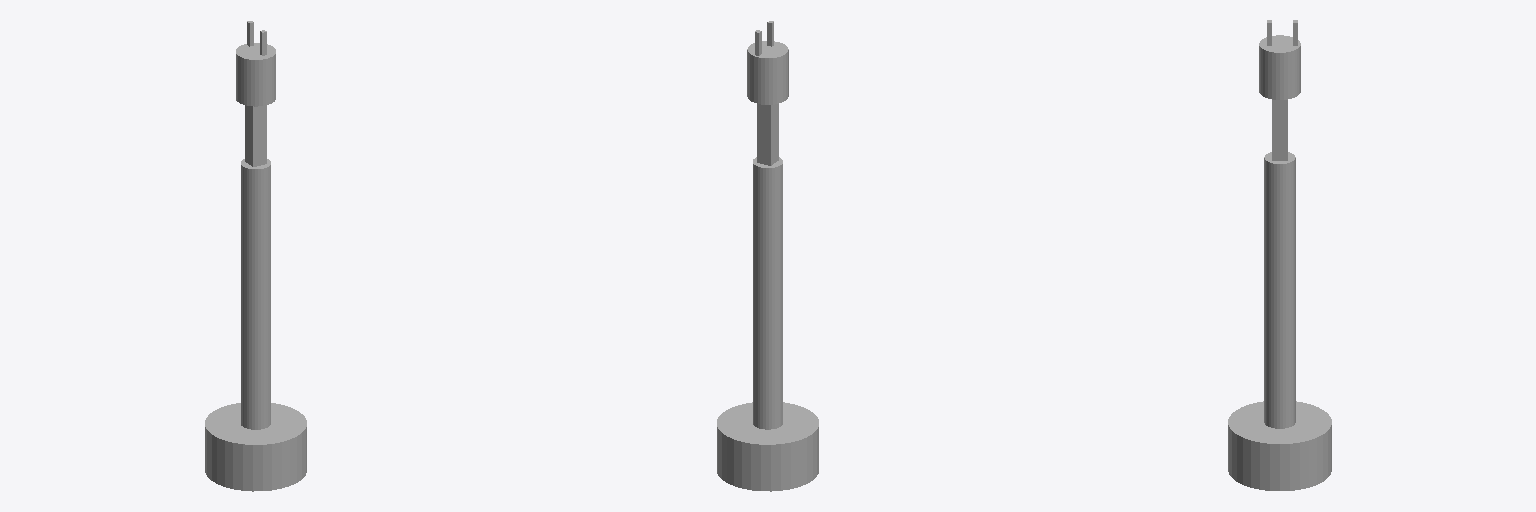
URDF robot description (manipulator):
<?xml version="1.0" ?>
<robot name="manipulator">
    <material name="yellow">
        <color rgba="0.0 0.8 0.0 1.0" />
    </material>
    <material name="red">
        <color rgba="0.0 0.8 0.0 1.0" />
    </material>
    <material name="black">
        <color rgba="0.0 0.0 0.0 1.0" />
    </material>
    <material name="blue">
        <color rgba="0.0 0.0 0.0 1.0" />
    </material>
    <material name="white">
        <color rgba="0.0 0.0 0.0 1.0" />
    </material>
    <link name="world" />
    <!-- Base Link -->
    <link name="base_link">
        <visual>
            <origin rpy="0 0 0" xyz="0 0 0.01" />
            <material name="silver">
                <color rgba="0.75 0.75 0.75 1" />
            </material>
        </visual>
        <collision>
            <origin rpy="0 0 0" xyz="0 0 0.01" />
            <geometry>
                <cylinder length="0.02" radius="0.5" />
            </geometry>
        </collision>
        <inertial>
            <mass value="0.1" />
            <inertia ixx="0.03" iyy="0.03" izz="0.03" ixy="0.0" ixz="0.0" iyz="0.0" />
            <origin xyz="0 0 0" rpy="0 0 0" />
        </inertial>
    </link>
    <gazebo reference="base_link">
        <material>Gazebo/White</material>
        <turnGravityOff>false</turnGravityOff>
        <plugin name="gazebo_ros_control" filename="libgazebo_ros_control.so">
            <robotNamespace>/</robotNamespace>
        </plugin>
    </gazebo>
    <!-- world attach joint -->
    <joint name="fixed" type="fixed">
        <parent link="world" />
        <child link="base_link" />
    </joint>
    <!-- Link 1 -->
    <link name="link1">
        <visual>
            <origin rpy="0 0 0" xyz="0 0 0.05" />
            <geometry>
                <cylinder length="0.10" radius="0.10" />
            </geometry>
            <material name="silver">
                <color rgba="0.75 0.75 0.75 1" />
            </material>
        </visual>
        <collision>
            <origin rpy="0 0 0" xyz="0 0 0.05" />
            <geometry>
                <cylinder length="0.10" radius="0.10" />
            </geometry>
        </collision>
        <inertial>
            <mass value="0.1" />
            <inertia ixx="0.03" iyy="0.03" izz="0.03" ixy="0.0" ixz="0.0" iyz="0.0" />
            <origin xyz="0 0 0" rpy="0 0 0" />
        </inertial>
    </link>
    <gazebo reference="link1">
        <material>Gazebo/Black</material>
        <turnGravityOff>false</turnGravityOff>
    </gazebo>
    <!-- Joint 1 -->
    <joint name="joint1" type="continuous">
        <origin rpy="0 0 0" xyz="0 0 0.01" />
        <parent link="base_link" />
        <child link="link1" />
        <axis xyz="0 0 1" />
    </joint>
    <!-- Link 2 -->
    <link name="link2">
        <visual>
            <origin rpy="0 0 0" xyz="0 0 0.15" />
            <geometry>
                <cylinder length="0.30" radius="0.03" />
            </geometry>
            <material name="silver">
                <color rgba="0.75 0.75 0.75 1" />
            </material>
        </visual>
        <collision>
            <origin rpy="0 0 0" xyz="0 0 0.15" />
            <geometry>
                <cylinder length="0.30" radius="0.03" />
            </geometry>
        </collision>
        <inertial>
            <mass value="0.1" />
            <inertia ixx="0.03" iyy="0.03" izz="0.03" ixy="0.0" ixz="0.0" iyz="0.0" />
            <origin xyz="0 0 0" rpy="0 0 0" />
        </inertial>
    </link>
    <gazebo reference="link2">
        <material>Gazebo/Blue</material>
        <turnGravityOff>false</turnGravityOff>
    </gazebo>
    <!-- Joint 2 -->
    <joint name="joint2" type="revolute">
        <origin rpy="0 0 0" xyz="0 0 0.08" />
        <parent link="link1" />
        <child link="link2" />
        <axis xyz="0 1 0" />
        <limit lower="-1.57" upper="1.57" effort="100" velocity="1" />
        <dynamics damping="0.01" friction="0.01" />
    </joint>
    <!-- Link 3 -->
    <link name="link3">
        <visual>
            <origin rpy="0 0 0" xyz="0 0 0.15" />
            <geometry>
                <cylinder length="0.30" radius="0.03" />
            </geometry>
            <material name="silver">
                <color rgba="0.75 0.75 0.75 1" />
            </material>
        </visual>
        <collision>
            <origin rpy="0 0 0" xyz="0 0 0.15" />
            <geometry>
                <cylinder length="0.30" radius="0.03" />
            </geometry>
        </collision>
        <inertial>
            <mass value="0.1" />
            <inertia ixx="0.03" iyy="0.03" izz="0.03" ixy="0.0" ixz="0.0" iyz="0.0" />
            <origin xyz="0 0 0" rpy="0 0 0" />
        </inertial>
    </link>
    <gazebo reference="link3">
        <material>Gazebo/Black</material>
        <turnGravityOff>false</turnGravityOff>
    </gazebo>
    <!-- Joint 3 -->
    <joint name="joint3" type="revolute">
        <origin rpy="0 0 0" xyz="0 0 0.28" />
        <parent link="link2" />
        <child link="link3" />
        <axis xyz="0 1 0" />
        <limit lower="-2.57" upper="2.57" effort="100" velocity="1" />
        <dynamics damping="0.01" friction="0.01" />
    </joint>
    <!-- Link 4 -->
    <link name="link4">
        <visual>
            <origin rpy="0 0 0" xyz="0 0 0.05" />
            <geometry>
                <box size="0.03 0.03 0.1" />
            </geometry>
            <material name="silver">
                <color rgba="0.75 0.75 0.75 1" />
            </material>
        </visual>
        <collision>
            <origin rpy="0 0 0" xyz="0 0 0.05" />
            <geometry>
                <box size="0.03 0.03 0.1" />
            </geometry>
        </collision>
        <inertial>
            <mass value="0.1" />
            <inertia ixx="0.03" iyy="0.03" izz="0.03" ixy="0.0" ixz="0.0" iyz="0.0" />
            <origin xyz="0 0 0" rpy="0 0 0" />
        </inertial>
    </link>
    <gazebo reference="link4">
        <material>Gazebo/Blue</material>
        <turnGravityOff>false</turnGravityOff>
    </gazebo>
    <!-- Joint 4 -->
    <joint name="joint4" type="revolute">
        <origin rpy="0 0 0" xyz="0 0 0.28" />
        <parent link="link3" />
        <child link="link4" />
        <axis xyz="0 0 1" />
        <limit lower="-3.14" upper="3.14" effort="100" velocity="1" />
        <dynamics damping="0.01" friction="0.01" />
    </joint>
    <!-- Link 5 -->
    <link name="link5">
        <visual>
            <origin rpy="0 0 0" xyz="0 0 0.05" />
            <geometry>
                <box size="0.03 0.03 0.1" />
            </geometry>
            <material name="silver">
                <color rgba="0.75 0.75 0.75 1" />
            </material>
        </visual>
        <collision>
            <origin rpy="0 0 0" xyz="0 0 0.05" />
            <geometry>
                <box size="0.03 0.03 0.1" />
            </geometry>
        </collision>
        <inertial>
            <mass value="0.1" />
            <inertia ixx="0.03" iyy="0.03" izz="0.03" ixy="0.0" ixz="0.0" iyz="0.0" />
            <origin xyz="0 0 0" rpy="0 0 0" />
        </inertial>
    </link>
    <gazebo reference="link5">
        <material>Gazebo/Black</material>
        <turnGravityOff>false</turnGravityOff>
    </gazebo>
    <!-- Joint 5 -->
    <joint name="joint5" type="revolute">
        <origin rpy="0 0 0" xyz="0 0 0.08" />
        <parent link="link4" />
        <child link="link5" />
        <axis xyz="0 1 0" />
        <limit lower="-2.57" upper="2.57" effort="100" velocity="1" />
        <dynamics damping="0.01" friction="0.01" />
    </joint>
    <!-- Link 6 -->
    <link name="link6">
        <visual>
            <origin rpy="0 0 0" xyz="0 0 0.05" />
            <geometry>
                <cylinder length="0.10" radius="0.04" />
            </geometry>
            <material name="silver">
                <color rgba="0.75 0.75 0.75 1" />
            </material>
        </visual>
        <collision>
            <origin rpy="0 0 0" xyz="0 0 0.05" />
            <geometry>
                <cylinder length="0.10" radius="0.04" />
            </geometry>
        </collision>
        <inertial>
            <mass value="0.1" />
            <inertia ixx="0.03" iyy="0.03" izz="0.03" ixy="0.0" ixz="0.0" iyz="0.0" />
            <origin xyz="0 0 0" rpy="0 0 0" />
        </inertial>
    </link>
    <gazebo reference="link6">
        <material>Gazebo/Blue</material>
        <turnGravityOff>false</turnGravityOff>
    </gazebo>
    <!-- Joint 6 -->
    <joint name="joint6" type="revolute">
        <origin rpy="0 0 0" xyz="0 0 0.08" />
        <parent link="link5" />
        <child link="link6" />
        <axis xyz="1 0 0" />
        <limit lower="-2.57" upper="2.57" effort="100" velocity="1" />
        <dynamics damping="0.01" friction="0.01" />
    </joint>
    <!-- Finger 1 -->
    <link name="finger1">
        <visual>
            <origin rpy="0 0 0" xyz="0.005 0.005 0.025" />
            <geometry>
                <box size="0.01 0.01 0.05" />
            </geometry>
            <material name="silver">
                <color rgba="0.75 0.75 0.75 1" />
            </material>
        </visual>
        <collision>
            <origin rpy="0 0 0" xyz="0.005 0.005 0.025" />
            <geometry>
                <box size="0.01 0.01 0.05" />
            </geometry>
        </collision>
        <inertial>
            <mass value="0.1" />
            <inertia ixx="0.03" iyy="0.03" izz="0.03" ixy="0.0" ixz="0.0" iyz="0.0" />
            <origin xyz="0 0 0" rpy="0 0 0" />
        </inertial>
    </link>
    <gazebo reference="finger1">
        <material>Gazebo/White</material>
        <turnGravityOff>false</turnGravityOff>
    </gazebo>
    <!-- Joint Finger 1 -->
    <joint name="f_joint1" type="prismatic">
        <origin rpy="0 0 0" xyz="0 -0.025 0.1" />
        <parent link="link6" />
        <child link="finger1" />
        <axis xyz="0 1 0" />
        <limit lower="0" upper="0.02" effort="20" velocity="0.2" />
    </joint>
    <!-- Finger 2 -->
    <link name="finger2">
        <visual>
            <origin rpy="0 0 0" xyz="0.005 0.005 0.025" />
            <geometry>
                <box size="0.01 0.01 0.05" />
            </geometry>
            <material name="silver">
                <color rgba="0.75 0.75 0.75 1" />
            </material>
        </visual>
        <collision>
            <origin rpy="0 0 0" xyz="0.005 0.005 0.025" />
            <geometry>
                <box size="0.01 0.01 0.05" />
            </geometry>
        </collision>
        <inertial>
            <mass value="0.1" />
            <inertia ixx="0.03" iyy="0.03" izz="0.03" ixy="0.0" ixz="0.0" iyz="0.0" />
            <origin xyz="0 0 0" rpy="0 0 0" />
        </inertial>
    </link>
    <gazebo reference="finger2">
        <material>Gazebo/White</material>
        <turnGravityOff>false</turnGravityOff>
    </gazebo>
    <!-- Joint Finger 2 -->
    <joint name="f_joint2" type="prismatic">
        <origin rpy="0 0 0" xyz="0 0.025 0.1" />
        <parent link="link6" />
        <child link="finger2" />
        <axis xyz="0 1 0" />
        <limit lower="0" upper="0.02" effort="20" velocity="0.2" />
    </joint>
    <transmission name="trans_joint1">
        <type>transmission_interface/SimpleTransmission</type>
        <joint name="joint1">
            <hardwareInterface>hardware_interface/PositionJointInterface</hardwareInterface>
        </joint>
        <actuator name="joint1_motor">
            <hardwareInterface>hardware_interface/PositionJointInterface</hardwareInterface>
            <mechanicalReduction>1</mechanicalReduction>
        </actuator>
    </transmission>
    <transmission name="trans_joint2">
        <type>transmission_interface/SimpleTransmission</type>
        <joint name="joint2">
            <hardwareInterface>hardware_interface/PositionJointInterface</hardwareInterface>
        </joint>
        <actuator name="joint2_motor">
            <hardwareInterface>hardware_interface/PositionJointInterface</hardwareInterface>
            <mechanicalReduction>1</mechanicalReduction>
        </actuator>
    </transmission>
    <transmission name="trans_joint3">
        <type>transmission_interface/SimpleTransmission</type>
        <joint name="joint3">
            <hardwareInterface>hardware_interface/PositionJointInterface</hardwareInterface>
        </joint>
        <actuator name="joint3_motor">
            <hardwareInterface>hardware_interface/PositionJointInterface</hardwareInterface>
            <mechanicalReduction>1</mechanicalReduction>
        </actuator>
    </transmission>
    <transmission name="trans_joint4">
        <type>transmission_interface/SimpleTransmission</type>
        <joint name="joint4">
            <hardwareInterface>hardware_interface/PositionJointInterface</hardwareInterface>
        </joint>
        <actuator name="joint4_motor">
            <hardwareInterface>hardware_interface/PositionJointInterface</hardwareInterface>
            <mechanicalReduction>1</mechanicalReduction>
        </actuator>
    </transmission>
    <transmission name="trans_joint5">
        <type>transmission_interface/SimpleTransmission</type>
        <joint name="joint5">
            <hardwareInterface>hardware_interface/PositionJointInterface</hardwareInterface>
        </joint>
        <actuator name="joint5_motor">
            <hardwareInterface>hardware_interface/PositionJointInterface</hardwareInterface>
            <mechanicalReduction>1</mechanicalReduction>
        </actuator>
    </transmission>
    <transmission name="trans_joint6">
        <type>transmission_interface/SimpleTransmission</type>
        <joint name="joint6">
            <hardwareInterface>hardware_interface/PositionJointInterface</hardwareInterface>
        </joint>
        <actuator name="joint6_motor">
            <hardwareInterface>hardware_interface/PositionJointInterface</hardwareInterface>
            <mechanicalReduction>1</mechanicalReduction>
        </actuator>
    </transmission>
    <transmission name="trans_f_joint1">
        <type>transmission_interface/SimpleTransmission</type>
        <joint name="f_joint1">
            <hardwareInterface>hardware_interface/EffortJointInterface</hardwareInterface>
        </joint>
        <actuator name="f_joint1_motor">
            <hardwareInterface>hardware_interface/EffortJointInterface</hardwareInterface>
            <mechanicalReduction>1</mechanicalReduction>
        </actuator>
    </transmission>
    <transmission name="trans_f_joint2">
        <type>transmission_interface/SimpleTransmission</type>
        <joint name="f_joint2">
            <hardwareInterface>hardware_interface/EffortJointInterface</hardwareInterface>
        </joint>
        <actuator name="f_joint2_motor">
            <hardwareInterface>hardware_interface/EffortJointInterface</hardwareInterface>
            <mechanicalReduction>1</mechanicalReduction>
        </actuator>
    </transmission>
    <gazebo>
        <plugin name="gazebo_ros_control" filename="libgazebo_ros_control.so">
            <robotNamespace>/</robotNamespace>
        </plugin>
    </gazebo>
</robot>

--- What the picture shows (computed from the rendered views, not written in the file) ---
The picture shows the robot from 3 angles, left to right: view 1: azimuth 30°, elevation 25°; view 2: azimuth 150°, elevation 25°; view 3: azimuth 270°, elevation 25°; orthographic projection.
Robot: manipulator — 10 links, 9 joints (5 revolute, 1 continuous, 2 prismatic, 1 fixed); root link world; default pose: every joint at zero.
Visible links, largest first — view 1: link1, link3, link2, link6, link4, link5; view 2: link1, link3, link2, link6, link4, link5; view 3: link1, link3, link2, link6, link4.
Link boxes in pixels (left/top/right/bottom): link1: left=205, top=403, right=306, bottom=491; link3: left=241, top=159, right=270, bottom=308; link2: left=241, top=295, right=270, bottom=429; link6: left=236, top=43, right=275, bottom=106; link4: left=245, top=127, right=266, bottom=166; link5: left=245, top=105, right=266, bottom=138; link1: left=717, top=402, right=818, bottom=491; link3: left=753, top=157, right=782, bottom=307; link2: left=753, top=295, right=782, bottom=429; link6: left=747, top=41, right=788, bottom=104; link4: left=757, top=123, right=778, bottom=165; link5: left=757, top=104, right=778, bottom=137; link1: left=1228, top=401, right=1331, bottom=490; link3: left=1264, top=152, right=1295, bottom=305; link2: left=1264, top=293, right=1295, bottom=428; link6: left=1259, top=35, right=1300, bottom=99; link4: left=1272, top=123, right=1287, bottom=160.
Size in the robot's own frame: 0.2 by 0.2 by 0.95 metres.
Geometry: primitives only (box / cylinder / sphere), no mesh files.